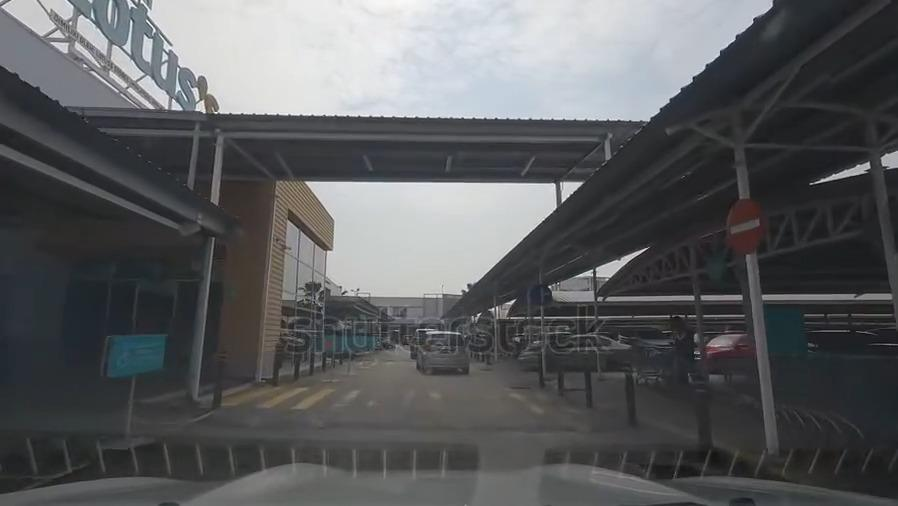car: (517, 331, 633, 376), (807, 326, 898, 353), (415, 330, 470, 373), (700, 330, 751, 369), (617, 325, 671, 357), (408, 324, 432, 357)
pedestrian: (228, 381, 577, 413)
person: (666, 314, 697, 379)
